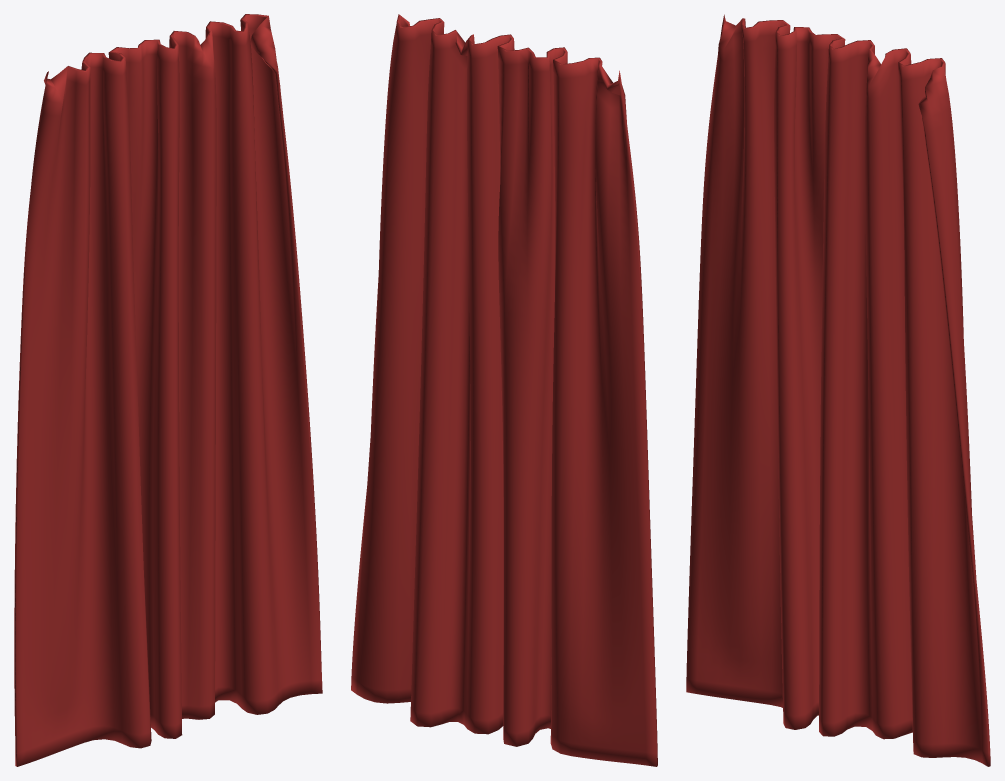
Rendered from curtainStatic2.fbx.
3 renders of one model, left to right at view 1: azimuth 30°, elevation 25°; view 2: azimuth 150°, elevation 25°; view 3: azimuth 330°, elevation 25°, orthographic.
Parts seen in each view (by area): view 1: Plane; view 2: Plane; view 3: Plane.
Part boxes in pixels (x1,y1,x2,y2): Plane: (14, 14, 322, 766); Plane: (351, 14, 657, 766); Plane: (686, 14, 990, 766).
Size of the model in its own units: 167 by 361 by 30.17.
